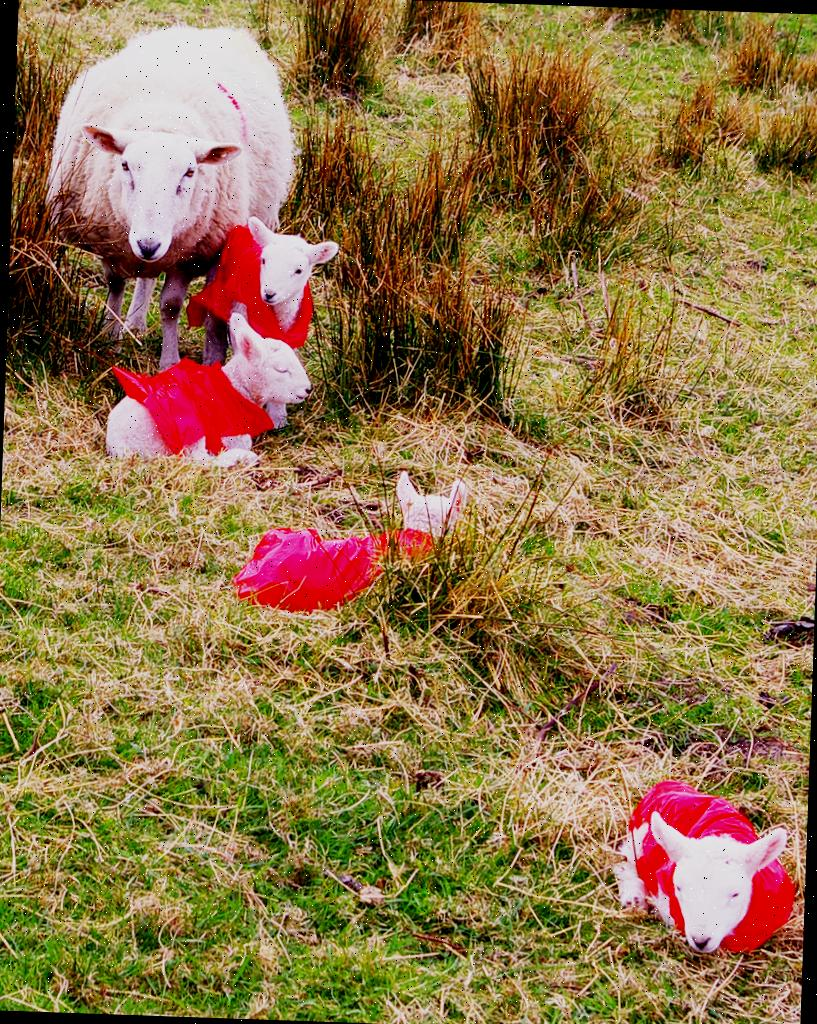Sheep: (40, 22, 296, 378), (99, 306, 317, 476), (608, 770, 800, 958), (230, 462, 470, 612), (199, 216, 339, 429)
